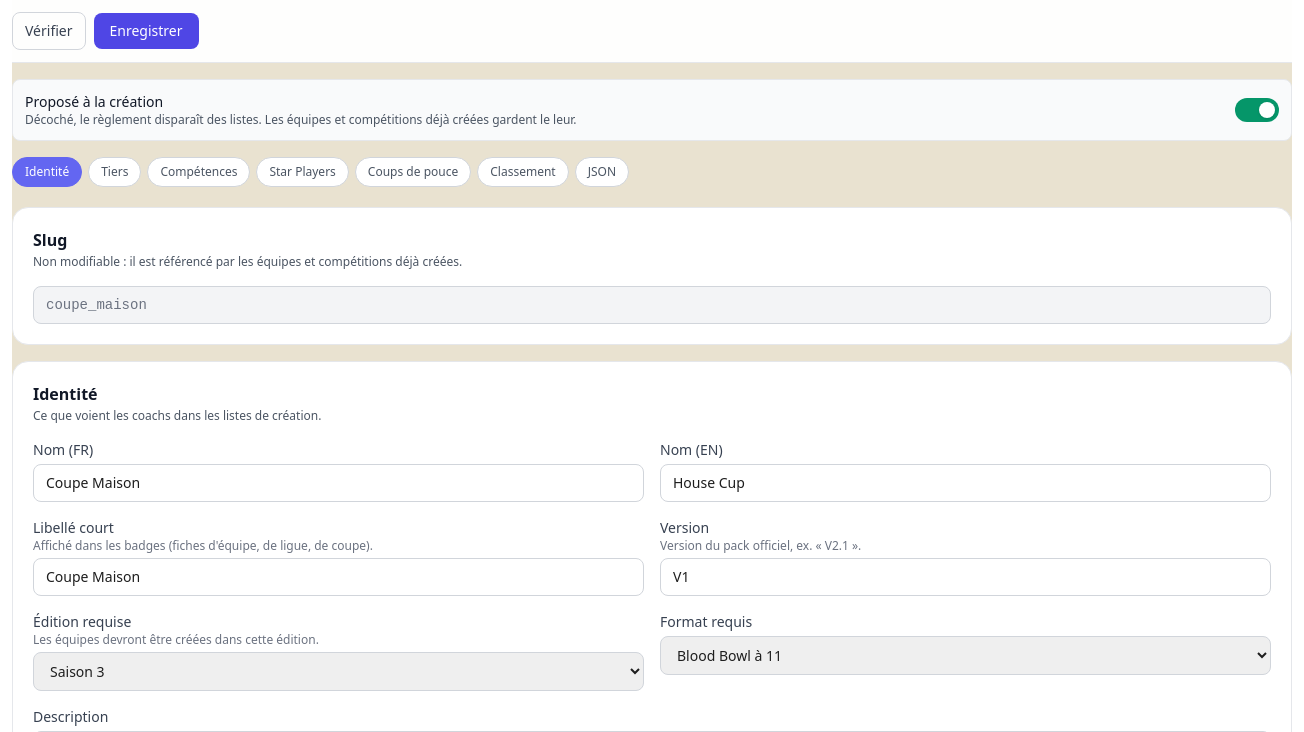
it: validation servie par le serveur › affiche « valide » quand le serveur accepte
Click the button with test id "ruleset-check" at (49, 31), box [12,12,86,50]
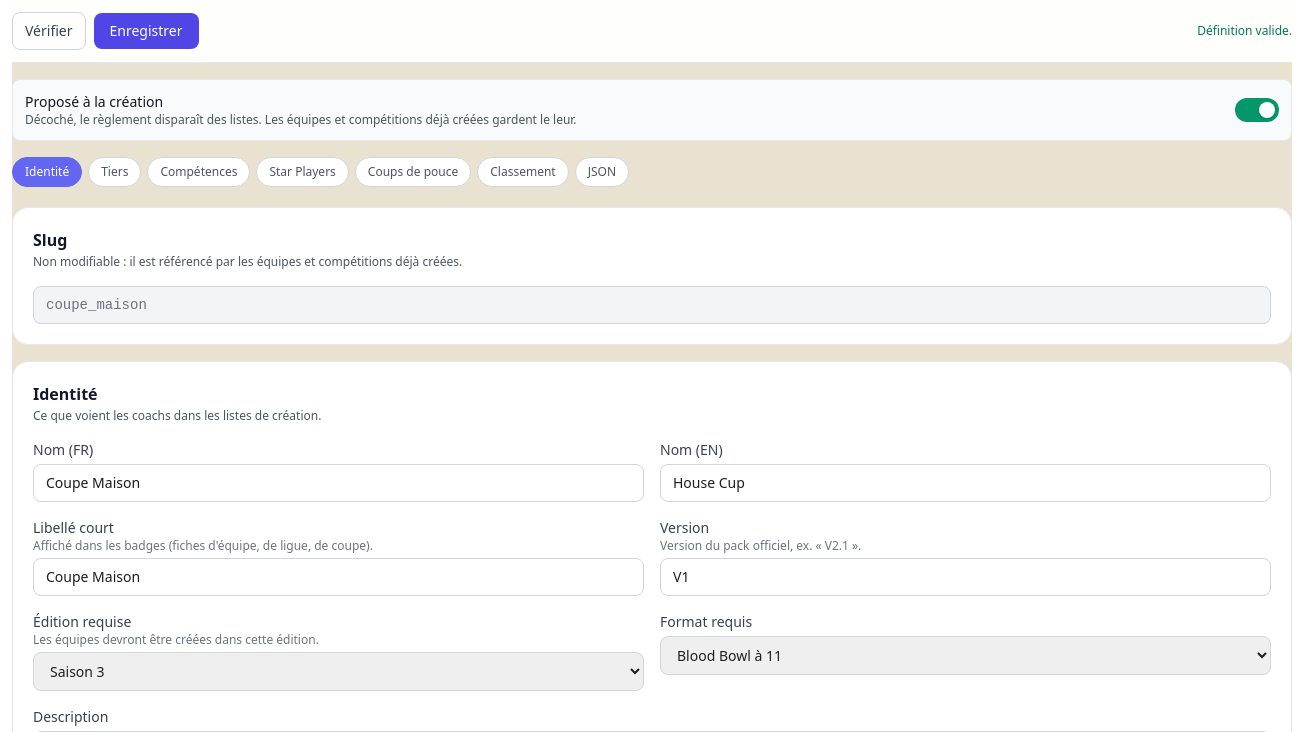
Expected: the text with test id "ruleset-status" shows "valide", [1197,22,1292,39]
